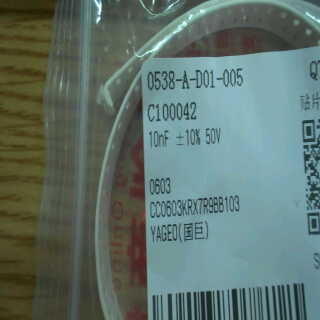10nF: (147, 128, 173, 151)
